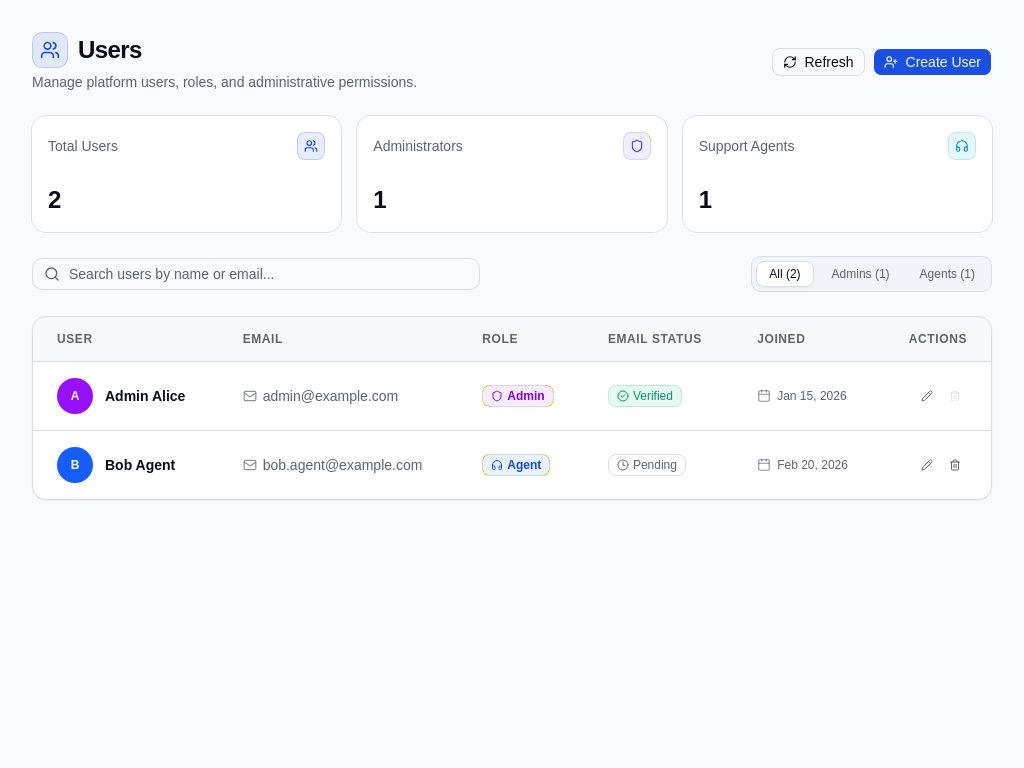
Scenario: UsersPage Component › 8. Create User Modal & User Creation › renders 'Create User' button above user list and opens modal on click
The image size is (1024, 768).
Expected: the text "Admin Alice" is shown, [105,388,185,404]
What coordinates should you click on to do the following:
click the button "Create User"
I would click on:
 (932, 62)
Its box is [872,48,992,76].
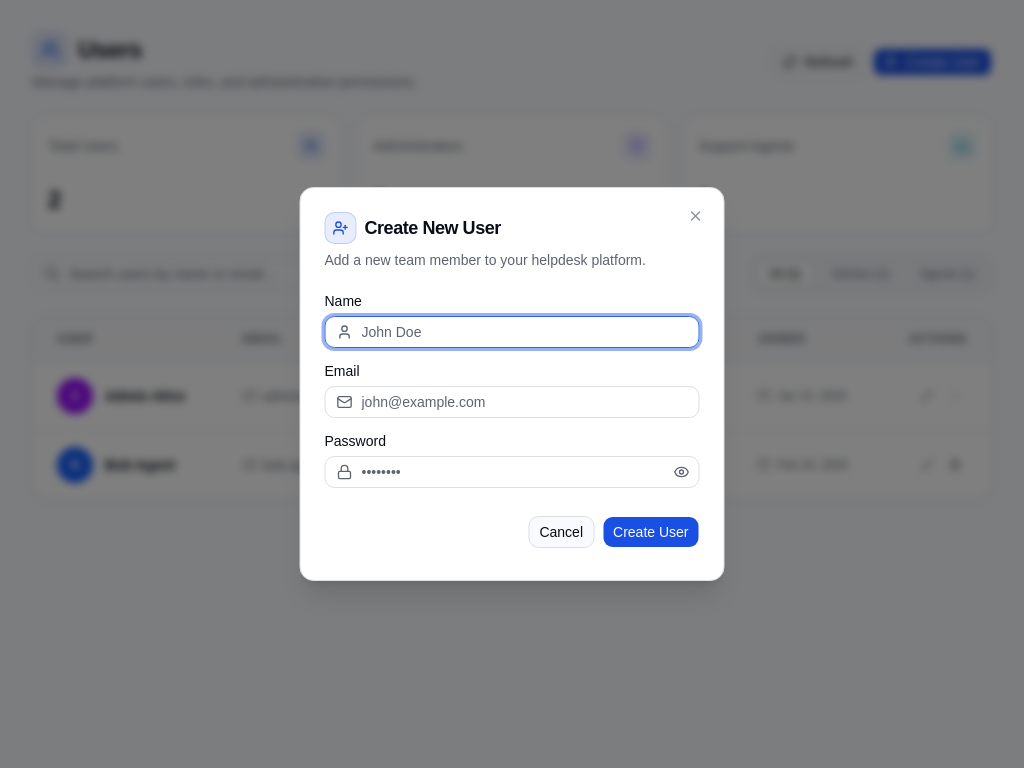
Now the heading "Create New User" is shown, box [364,219,501,237]
Now the field labelled "Name" is shown, box [324,316,700,348]
Now the field labelled "Email" is shown, box [324,386,700,418]
